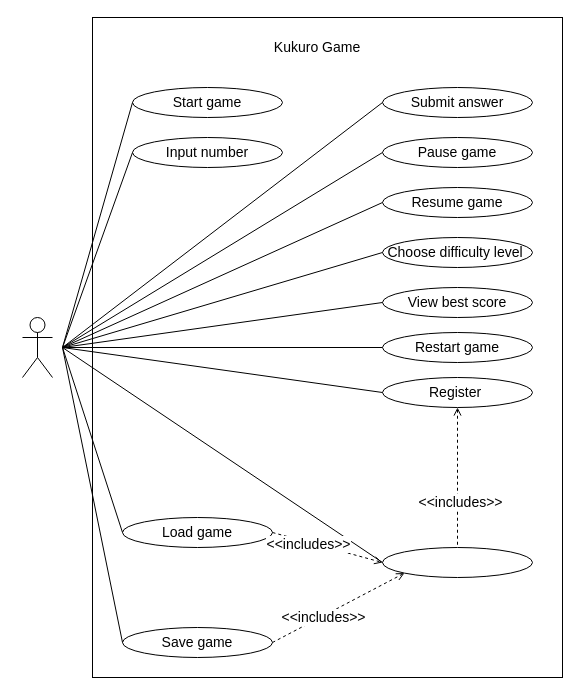
Some shapes in this 580 by 695 pixel diagram are drawn without their labels. The box of each missing label's shape, as (x1, y1, x2, y2) in pixels:
Login: (382, 546, 532, 578)
Player: (22, 316, 52, 378)
